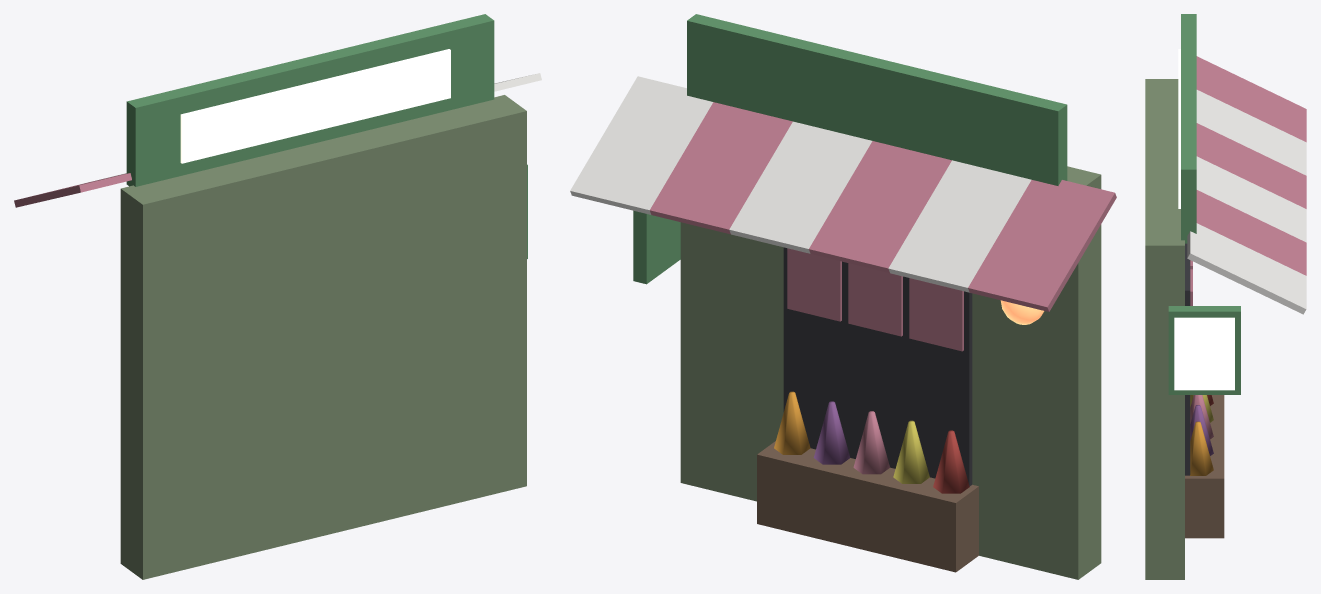
Rendered from prop_mise_hana.glb.
The picture shows the model from 3 angles, left to right: view 1: azimuth 30°, elevation 25°; view 2: azimuth 150°, elevation 25°; view 3: azimuth 270°, elevation 25°; orthographic projection. The views are drawn at different scales.
Parts seen in each view (by area): view 1: mise_hana; view 2: mise_hana; view 3: mise_hana.
Part boxes in pixels (x1=…): mise_hana: x1=14, y1=14, x2=541, y2=579; mise_hana: x1=570, y1=14, x2=1116, y2=579; mise_hana: x1=1145, y1=14, x2=1306, y2=579.
Bounding box in the file's own units: 3.6 × 3.39 × 1.22.
